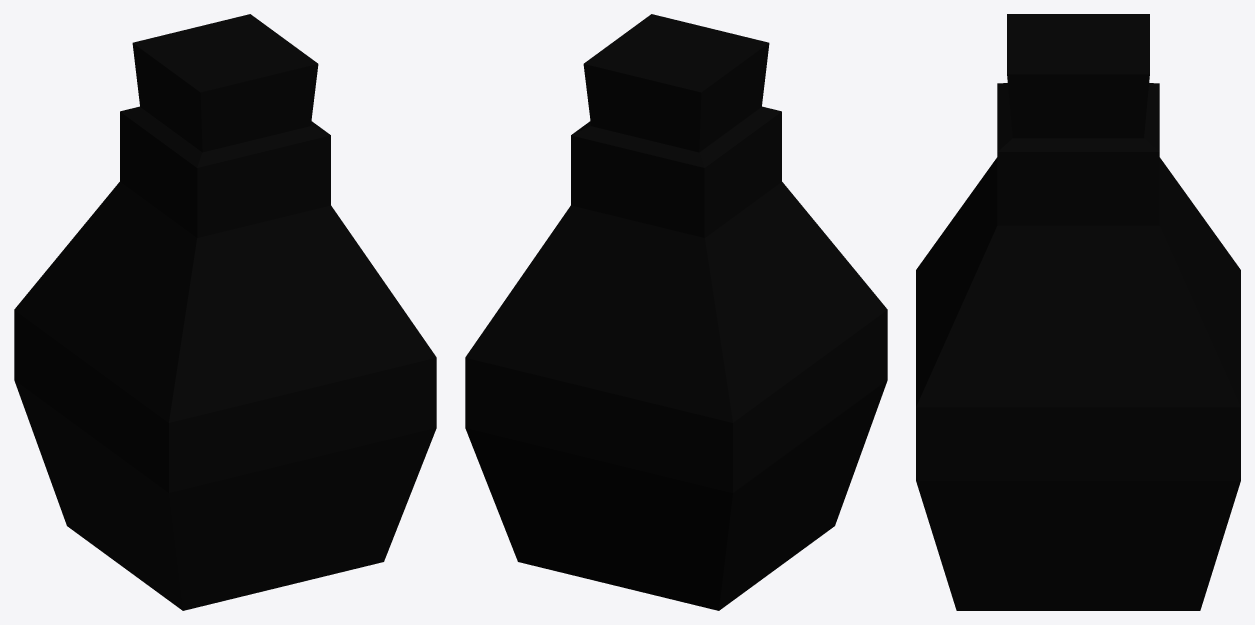
Rendered from potion.obj.
The picture shows the model from 3 angles, left to right: view 1: azimuth 30°, elevation 25°; view 2: azimuth 150°, elevation 25°; view 3: azimuth 270°, elevation 25°; orthographic projection. The views are drawn at different scales.
Parts seen in each view (by area): view 1: Cube; view 2: Cube; view 3: Cube.
Boxes of the visible parts, x1,y1,x2,y2 form: Cube: [14, 14, 436, 610]; Cube: [465, 14, 887, 610]; Cube: [916, 14, 1240, 610].
Bounding box in the file's own units: 4 × 7 × 4.
Materials: 1 (1 with a texture image).
